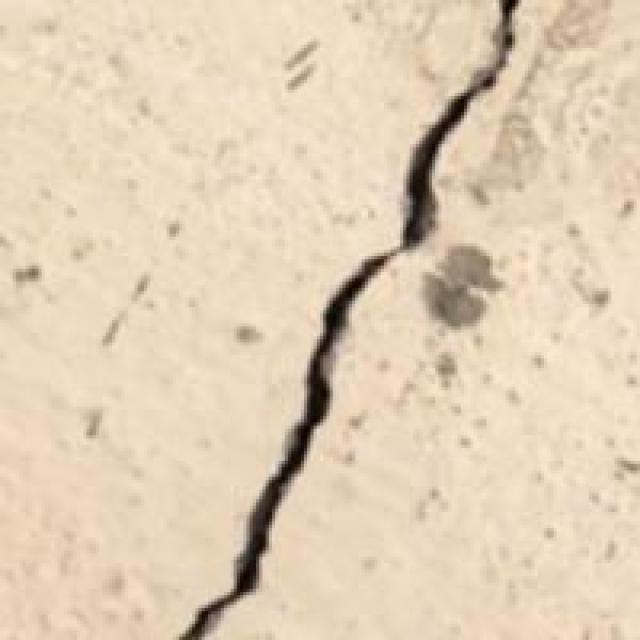Crack: (176, 3, 525, 637)
